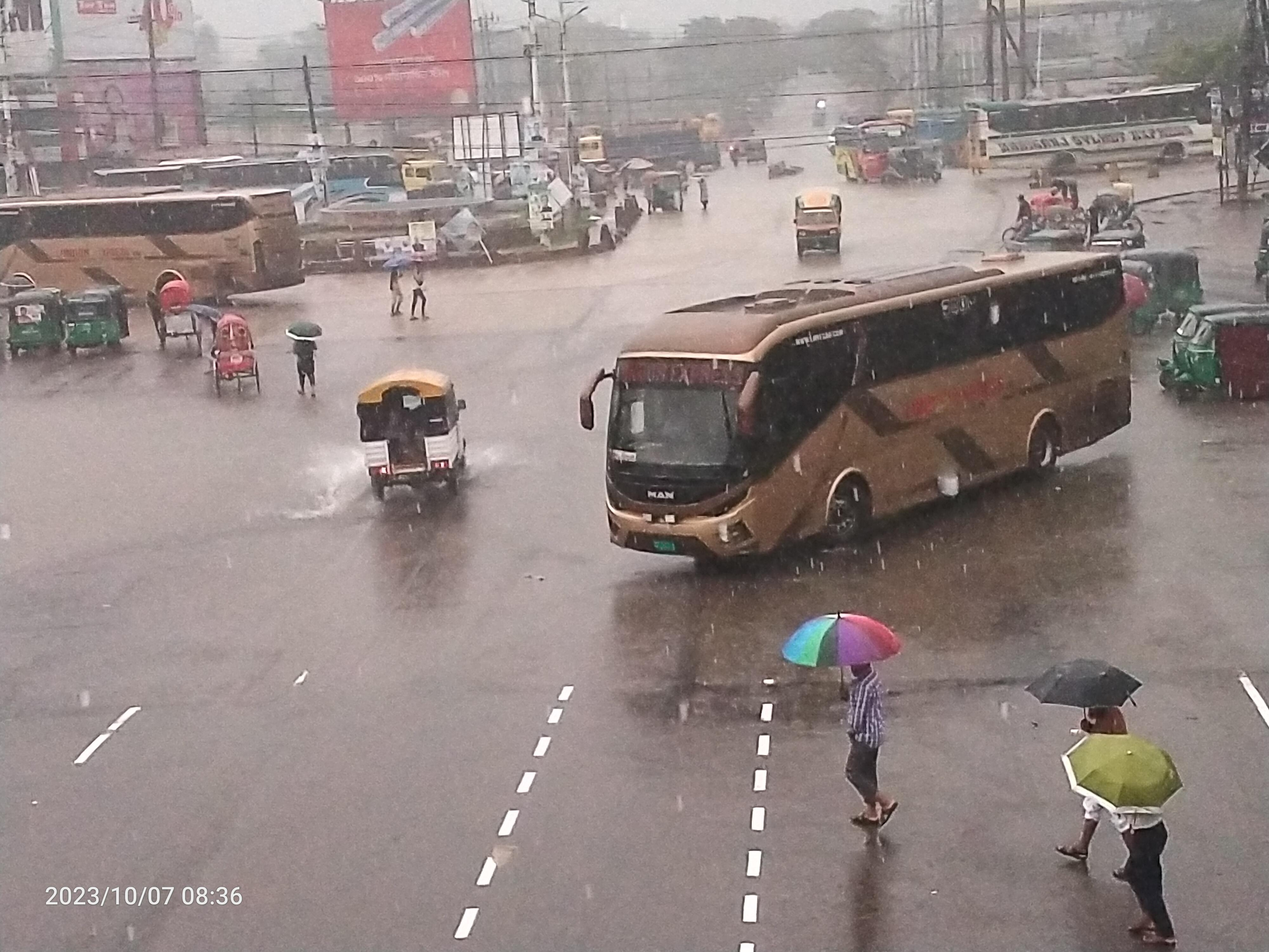Bus: (536, 234, 1189, 572), (0, 169, 332, 311), (955, 68, 1253, 186), (73, 121, 323, 241), (820, 116, 937, 184)
Car: (337, 362, 496, 532), (192, 297, 269, 427), (767, 175, 859, 276), (141, 263, 218, 368)
Truck: (553, 96, 702, 174), (384, 148, 470, 207)
